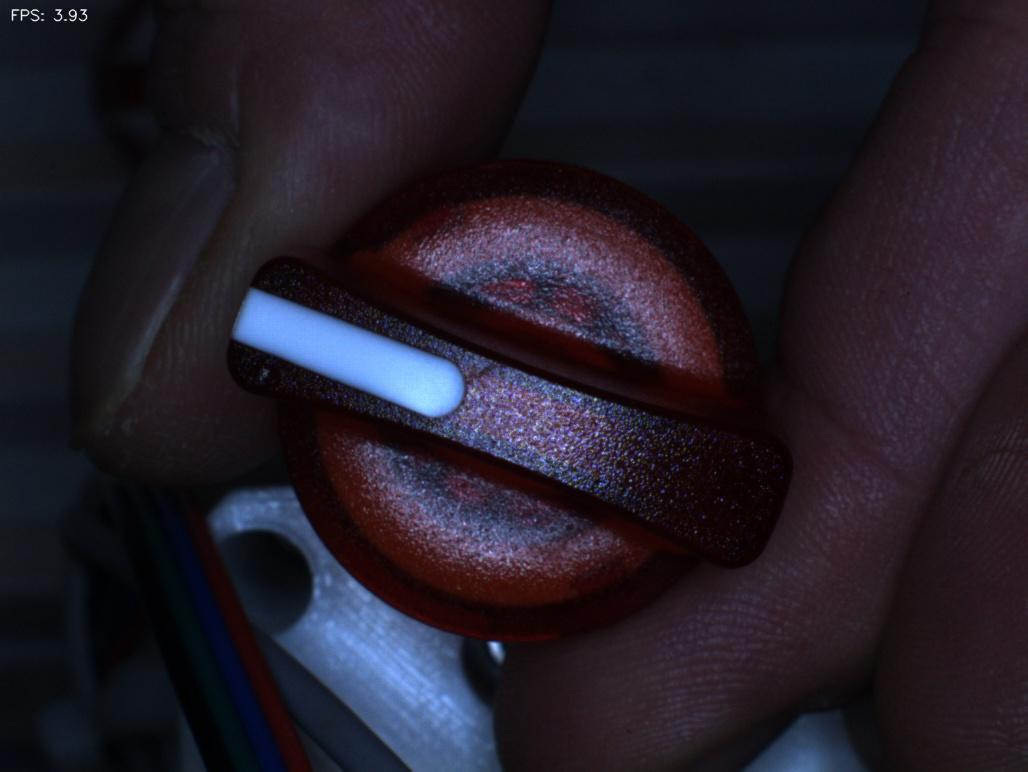Choc: (220, 322, 312, 424)
